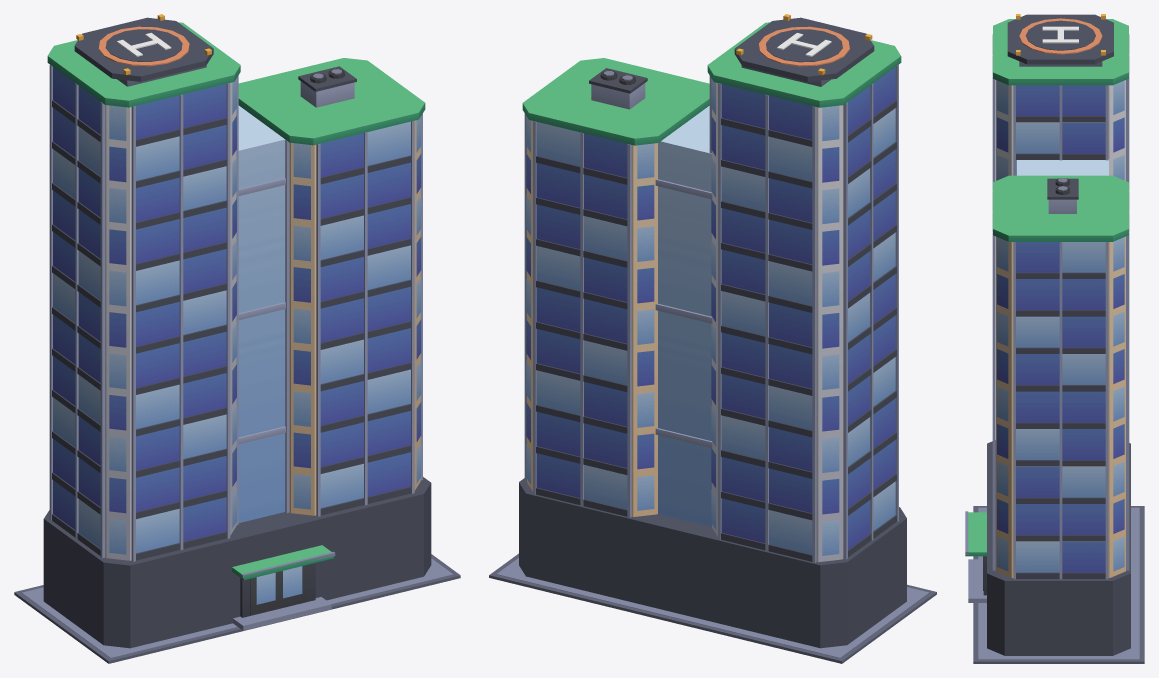
File: off_twin_slabs_2x1.glb
3 views of the same model, side by side, from view 1: azimuth 30°, elevation 25°; view 2: azimuth 150°, elevation 25°; view 3: azimuth 270°, elevation 25° (orthographic). The views are drawn at different scales.
Parts seen in each view (by area): view 1: off_twin_slabs_2x1; view 2: off_twin_slabs_2x1; view 3: off_twin_slabs_2x1.
Part boxes in pixels (left/top/right/bottom): off_twin_slabs_2x1: left=14, top=14, right=460, bottom=663; off_twin_slabs_2x1: left=489, top=14, right=936, bottom=663; off_twin_slabs_2x1: left=965, top=14, right=1144, bottom=663.
Size of the model in its own units: 3.66 by 5.61 by 1.78.
1 material, 1 textured.
